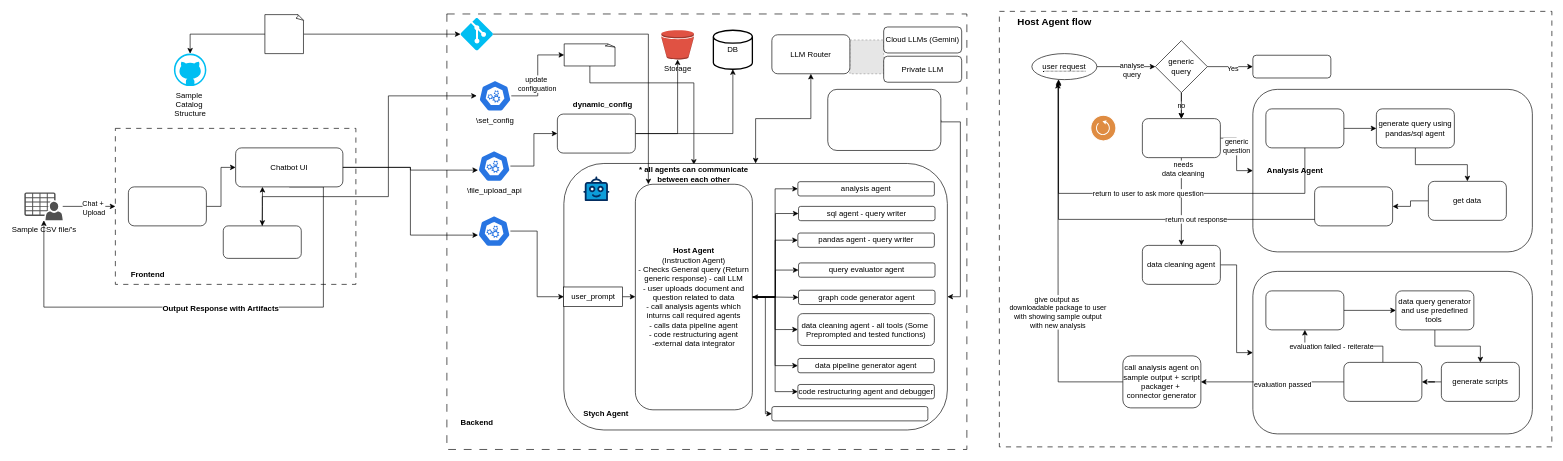
Some shapes in this 1563 by 461 pixel diagram are drawn without their labels. Grey dashed boxes stand in for pictures. Here are the shapes that lost their labels. From the top down, the box of each, then its label:
(264, 14, 304, 54): Code Structure Def.md
(564, 43, 616, 66): config.yaml
(1252, 55, 1331, 78): call llm directly
(557, 113, 635, 153): push to storage and pass id in db
(827, 89, 941, 150): Helper functions gcs helpers db helpers code helpers code structure
(1142, 118, 1220, 158): call analysis agent
(1265, 108, 1344, 148): do generic analysis
(128, 186, 206, 226): Landing Page
(1314, 186, 1393, 226): analyse return response
(223, 225, 301, 258): Config UI - Settings
(477, 215, 510, 247): \chat_api
(1265, 290, 1344, 330): call analysis agent with data cleaning prompt
(1343, 362, 1422, 401): evaluate in sandbox
(771, 406, 928, 421): external data integrator pipeline generators
